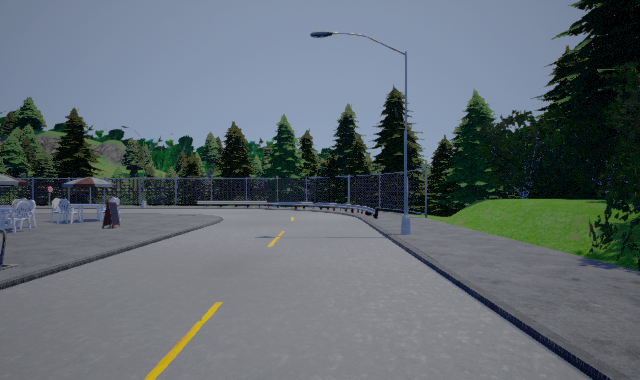traffic_sign: (46, 185, 54, 194)
